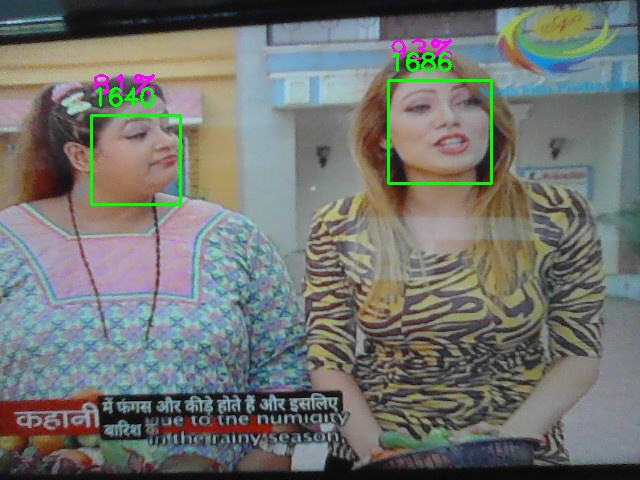fake: (388, 80, 492, 184), (91, 115, 181, 205)
